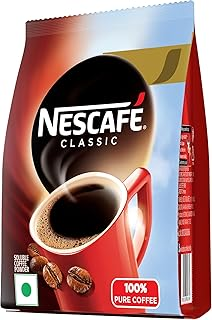Coffee: (2, 1, 212, 320)
